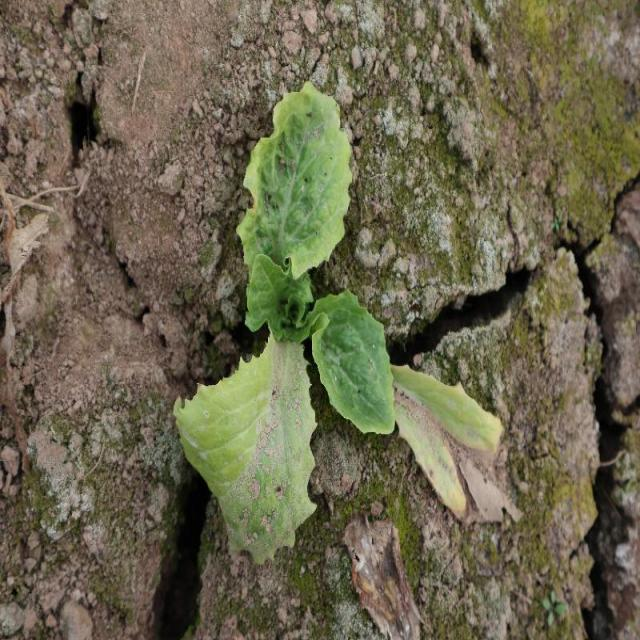crop: (173, 79, 395, 561)
